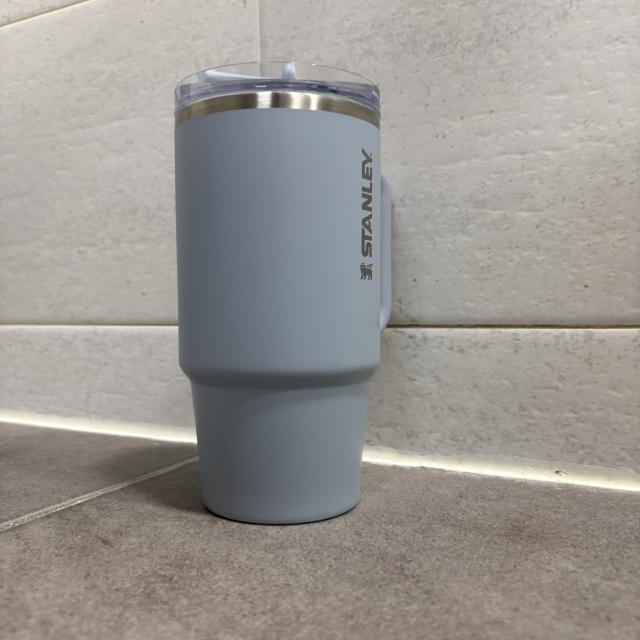waterbottle: (176, 61, 393, 524)
